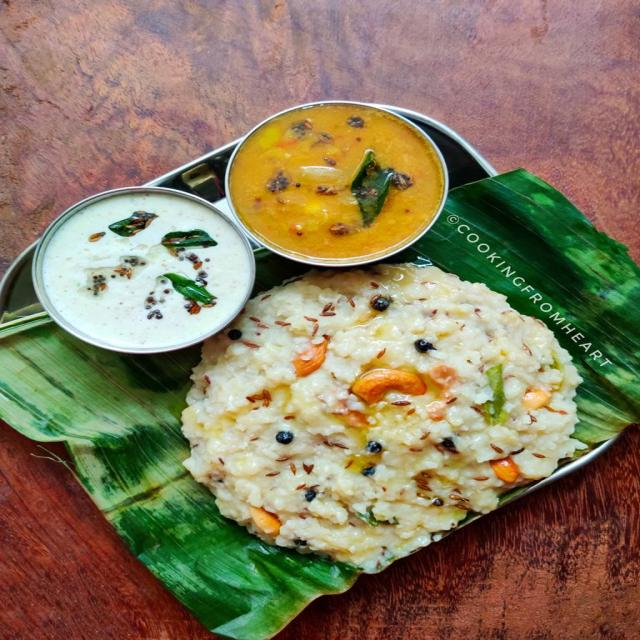khara pongal: (164, 254, 601, 586)
